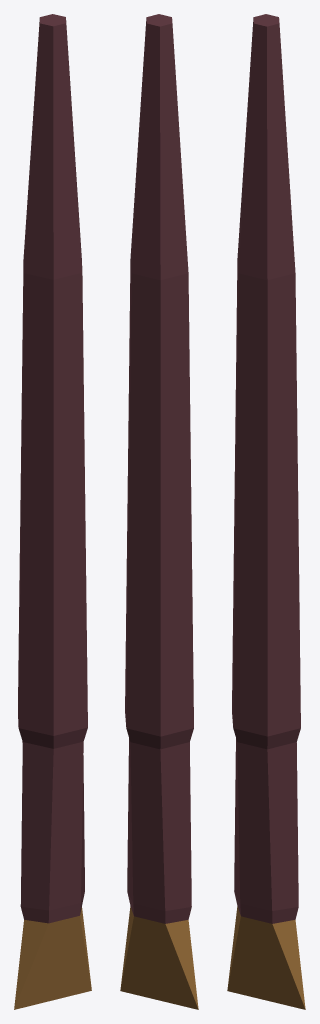
The model's file is tools-paintbrush-flat.glb.
3 renders of one model, left to right at view 1: azimuth 30°, elevation 25°; view 2: azimuth 150°, elevation 25°; view 3: azimuth 330°, elevation 25°, orthographic.
Parts seen in each view (by area): view 1: paintbrush-flat; view 2: paintbrush-flat; view 3: paintbrush-flat.
Part boxes in pixels (left/top/right/bottom): paintbrush-flat: left=14, top=14, right=91, bottom=1009; paintbrush-flat: left=120, top=14, right=198, bottom=1009; paintbrush-flat: left=227, top=14, right=305, bottom=1009.
Bounding box in the file's own units: 0.0193 × 0.2319 × 0.0146.
